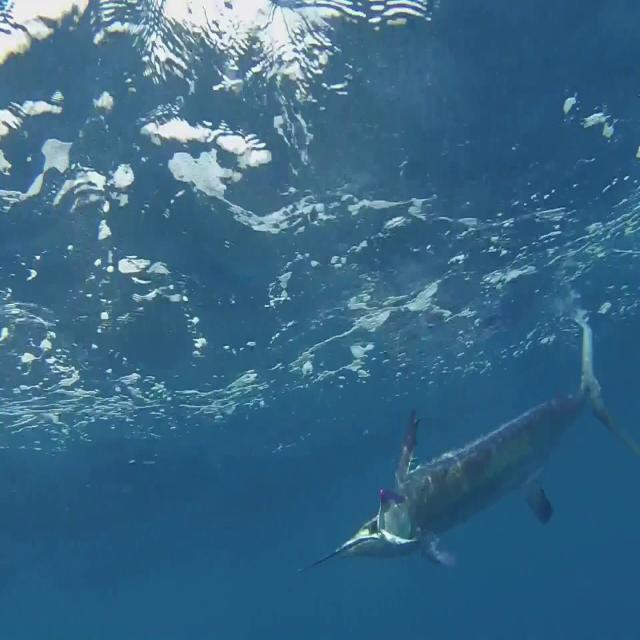Spear Fish: (296, 320, 640, 574)
